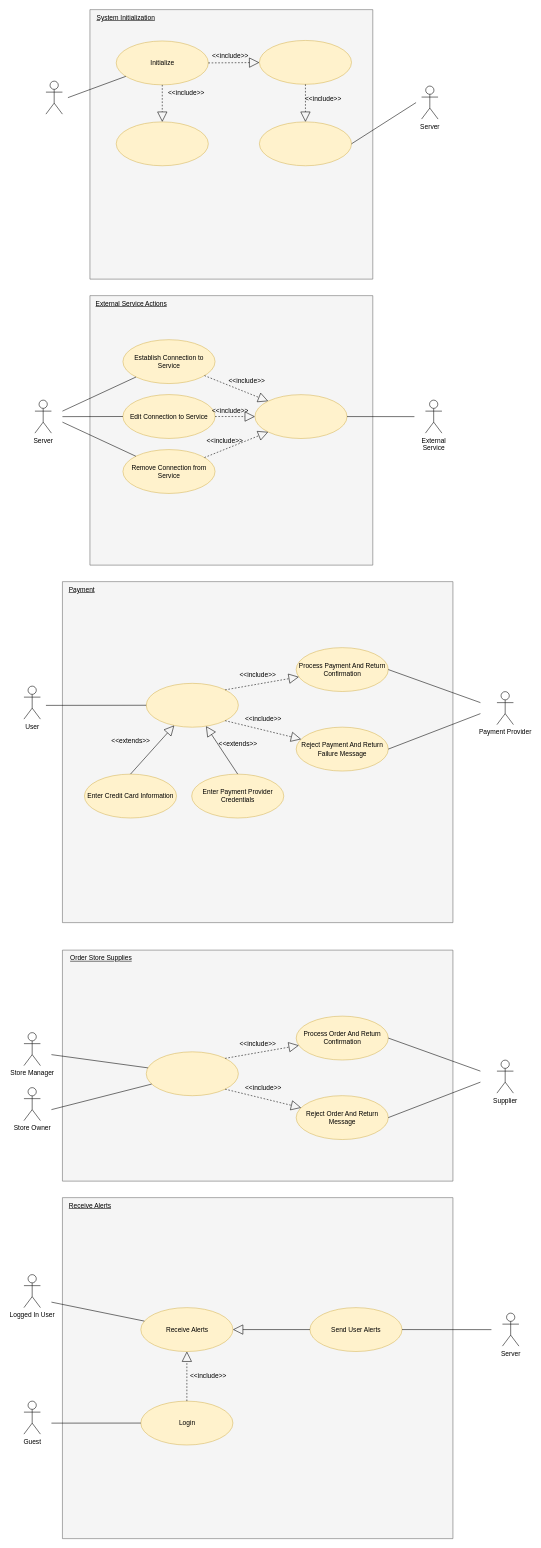
This 541x1548 diagram has some shape labels left out. The shapes that lost their labels are listed below. From the top down, each one's centre as x and y in pixels, then its label:
At [305,62]: "Register Admin".
At [53,97]: "Admin".
At [162,143]: "Initialize Persistense Tables".
At [305,143]: "Authenticate And Save".
At [300,416]: "Confirm Action".
At [192,705]: "Enter Payment Information".
At [192,1073]: "Enter Order Information".
